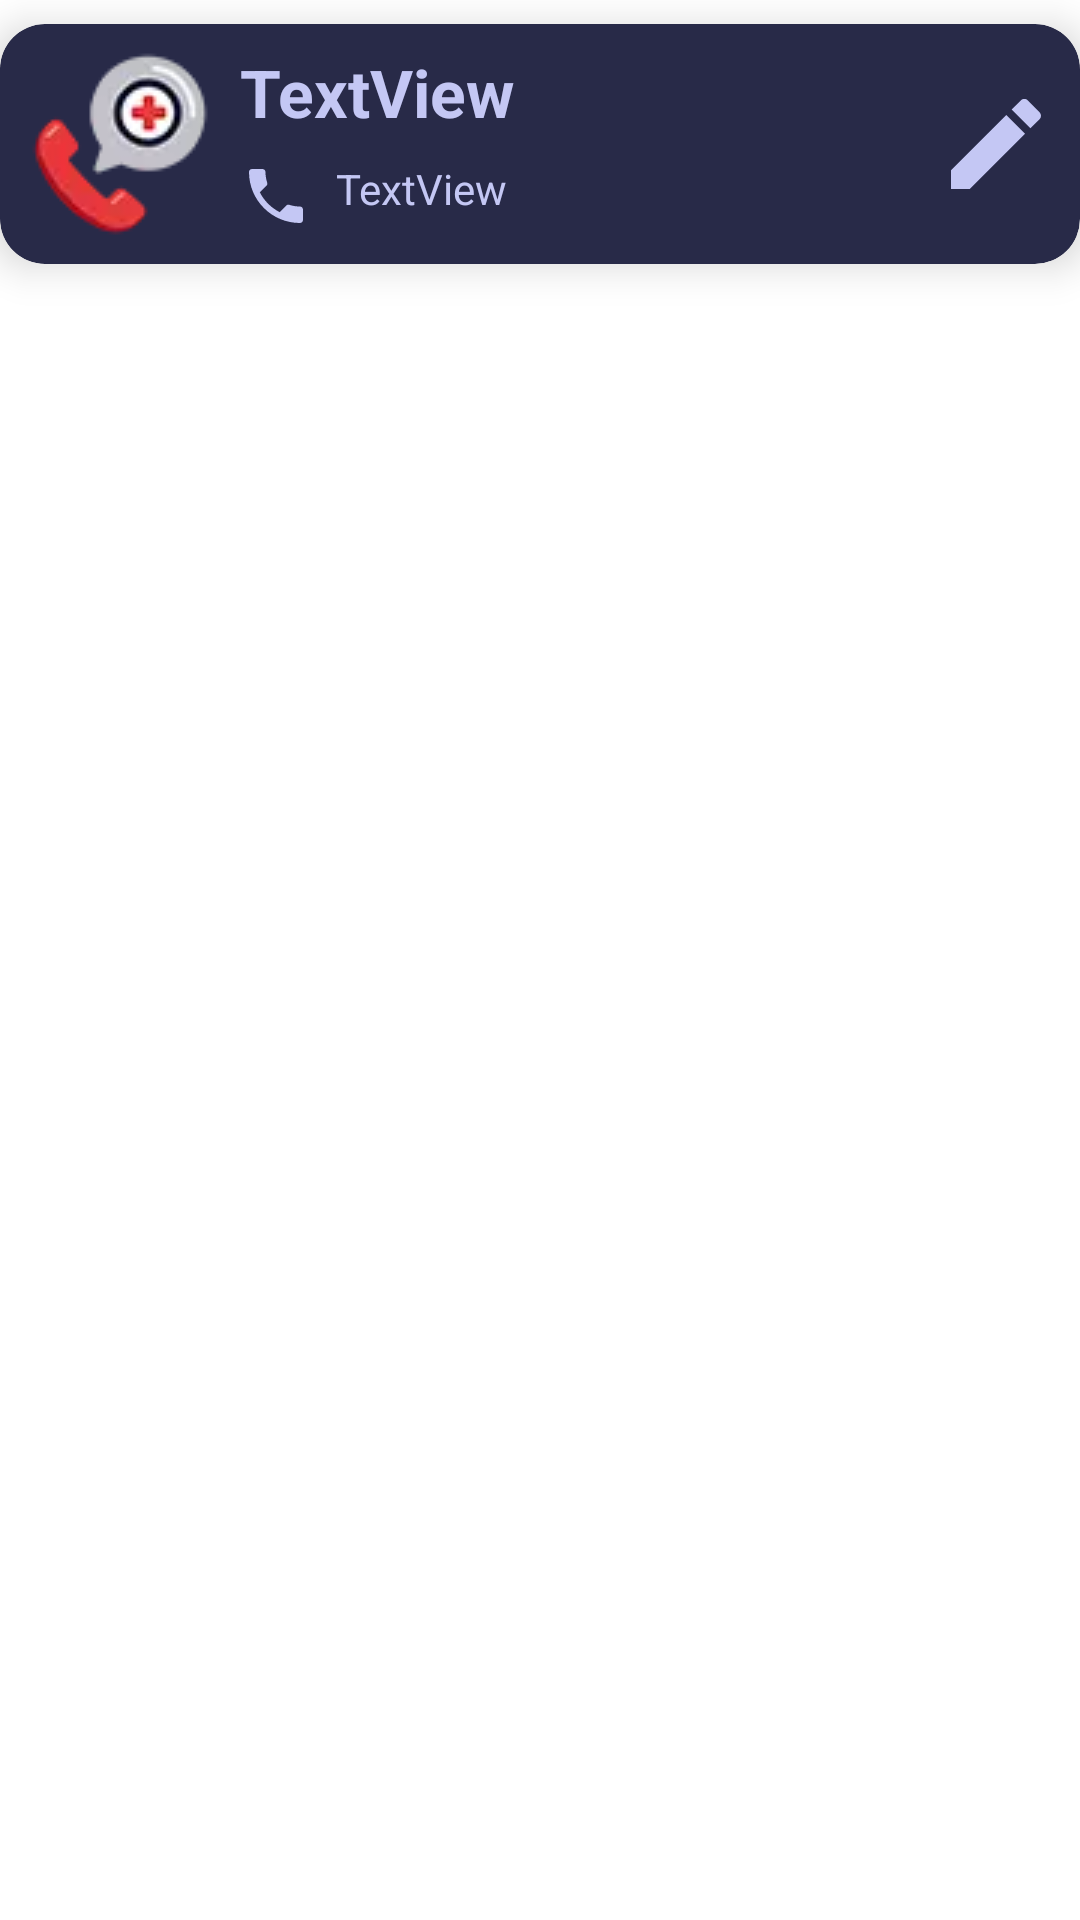

Named icons in this screenshot (1080×1920) and their bounding boxes, bbox=[x1, y1, x2, y2]:
edit: bbox=[951, 99, 1041, 189]
emergy contact: bbox=[35, 54, 207, 234]
phone: bbox=[249, 169, 303, 223]
